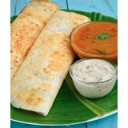dosa: (10, 1, 75, 116)
